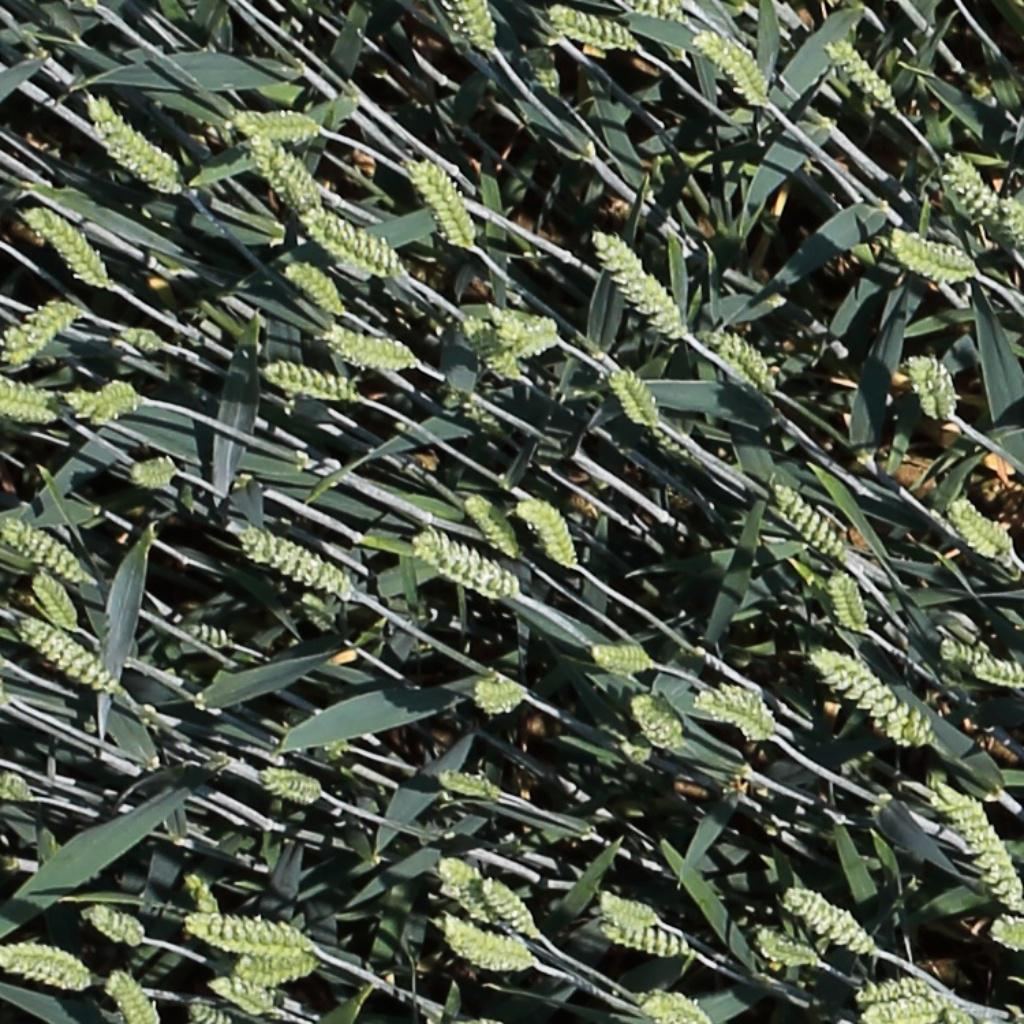0-0: (815, 648, 935, 746), (937, 782, 1022, 917), (87, 94, 189, 201), (592, 228, 689, 339), (24, 202, 114, 292), (304, 208, 410, 283), (686, 24, 773, 115), (241, 528, 353, 598), (17, 618, 116, 696), (404, 150, 479, 252), (680, 679, 783, 748), (413, 533, 517, 600), (885, 226, 983, 297), (438, 916, 535, 987), (772, 479, 853, 563), (828, 36, 906, 118), (324, 324, 427, 383), (789, 888, 876, 957), (1, 517, 90, 584), (187, 902, 305, 952), (427, 844, 495, 925), (0, 929, 91, 988), (0, 299, 81, 365), (518, 495, 582, 573), (704, 327, 779, 393), (255, 361, 359, 408), (58, 373, 149, 426), (934, 147, 998, 222), (462, 490, 527, 563), (848, 964, 940, 1015), (461, 312, 527, 382), (930, 626, 1006, 684), (948, 496, 1014, 562), (479, 876, 543, 943), (241, 125, 295, 202), (622, 688, 686, 752), (547, 5, 638, 50), (278, 149, 334, 222), (436, 0, 502, 60), (608, 363, 664, 432), (0, 363, 56, 431), (445, 382, 509, 441), (234, 939, 323, 981), (28, 567, 81, 637), (909, 350, 957, 427), (283, 259, 348, 315), (114, 307, 175, 366), (466, 676, 530, 729), (171, 613, 240, 662), (82, 894, 147, 946), (830, 566, 875, 641), (207, 969, 278, 1015), (584, 638, 663, 679), (626, 981, 704, 1022), (233, 101, 316, 139), (600, 921, 692, 955), (516, 41, 568, 101), (430, 758, 501, 801), (128, 449, 183, 504), (258, 763, 326, 807), (105, 968, 157, 1024), (964, 654, 1024, 700), (981, 190, 1024, 252), (755, 929, 823, 968), (292, 588, 341, 640), (981, 915, 1024, 966), (184, 872, 222, 927), (488, 304, 557, 334), (599, 897, 660, 928), (501, 324, 561, 354), (1, 765, 39, 808), (865, 1003, 946, 1022), (636, 0, 688, 23), (188, 1000, 233, 1024)
